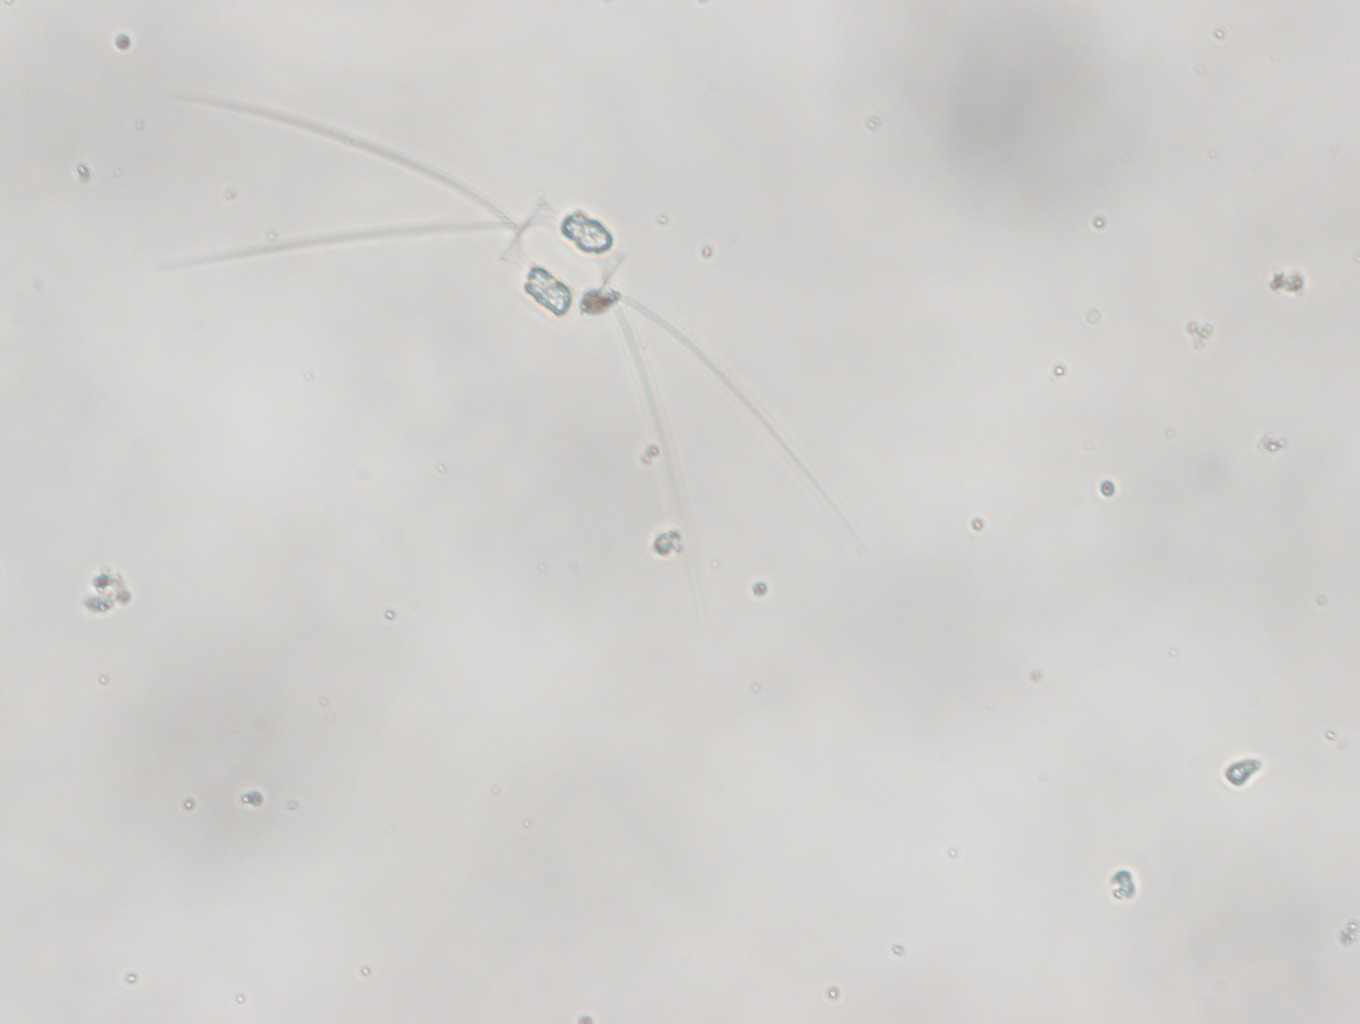chaetoceros: (161, 89, 862, 587)
